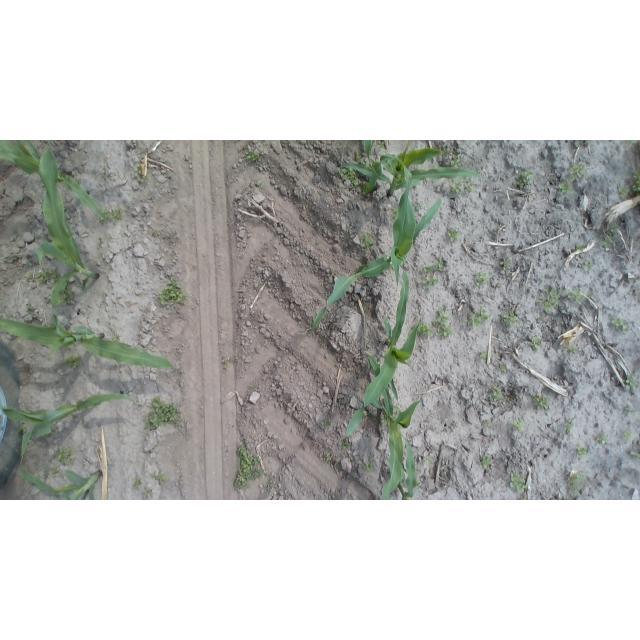Maize: (308, 158, 448, 341), (337, 263, 425, 437), (36, 140, 97, 334), (0, 311, 178, 371), (2, 390, 138, 462), (364, 350, 425, 500), (1, 141, 109, 220), (335, 144, 478, 198), (16, 464, 103, 499), (395, 433, 418, 500), (364, 140, 390, 180)
Weeds: (235, 444, 264, 489), (146, 396, 182, 430), (157, 277, 187, 307), (433, 306, 452, 338), (540, 287, 562, 313), (337, 168, 362, 189), (468, 307, 491, 328), (510, 472, 529, 493), (569, 162, 589, 181), (54, 447, 75, 465), (568, 471, 584, 494), (100, 208, 124, 223), (516, 169, 533, 189), (63, 352, 81, 370), (610, 318, 629, 335), (37, 268, 60, 282), (59, 285, 74, 305), (486, 385, 503, 402), (531, 395, 549, 411), (568, 288, 585, 304), (502, 312, 520, 327), (360, 232, 375, 248), (450, 180, 466, 195), (424, 277, 439, 292), (558, 181, 573, 196), (600, 235, 615, 250), (418, 322, 431, 338), (476, 271, 489, 286), (245, 150, 260, 163), (618, 184, 631, 198), (447, 229, 459, 244), (576, 444, 589, 457), (480, 455, 492, 469), (152, 471, 167, 482), (512, 418, 524, 431), (450, 156, 463, 168), (633, 170, 640, 192), (596, 432, 608, 444), (531, 337, 542, 350), (572, 243, 586, 253), (464, 180, 475, 192), (564, 422, 574, 435), (625, 376, 635, 389), (435, 260, 445, 273), (132, 477, 142, 490), (500, 260, 513, 270), (355, 150, 365, 163), (582, 261, 593, 272), (254, 179, 265, 190), (340, 440, 352, 450), (380, 412, 388, 426), (363, 461, 373, 472), (320, 419, 332, 428), (622, 429, 632, 439), (477, 351, 488, 360), (143, 488, 152, 499), (624, 405, 633, 416), (25, 272, 35, 281), (17, 423, 26, 433), (139, 175, 149, 184), (424, 265, 435, 273), (414, 202, 423, 211), (378, 141, 387, 150), (49, 466, 59, 474), (25, 304, 35, 312), (423, 456, 433, 464), (392, 206, 398, 219), (565, 347, 576, 354), (222, 358, 229, 369), (610, 223, 617, 234), (100, 166, 108, 175), (268, 481, 276, 489), (393, 405, 400, 414), (326, 454, 333, 463), (113, 334, 120, 342), (261, 341, 269, 348), (133, 166, 140, 174), (484, 419, 492, 426), (587, 291, 594, 299), (627, 140, 636, 146), (500, 365, 507, 372), (414, 482, 420, 490), (134, 140, 140, 148), (375, 359, 381, 366), (527, 261, 532, 268), (538, 318, 544, 323), (170, 238, 175, 242), (152, 230, 156, 234)
